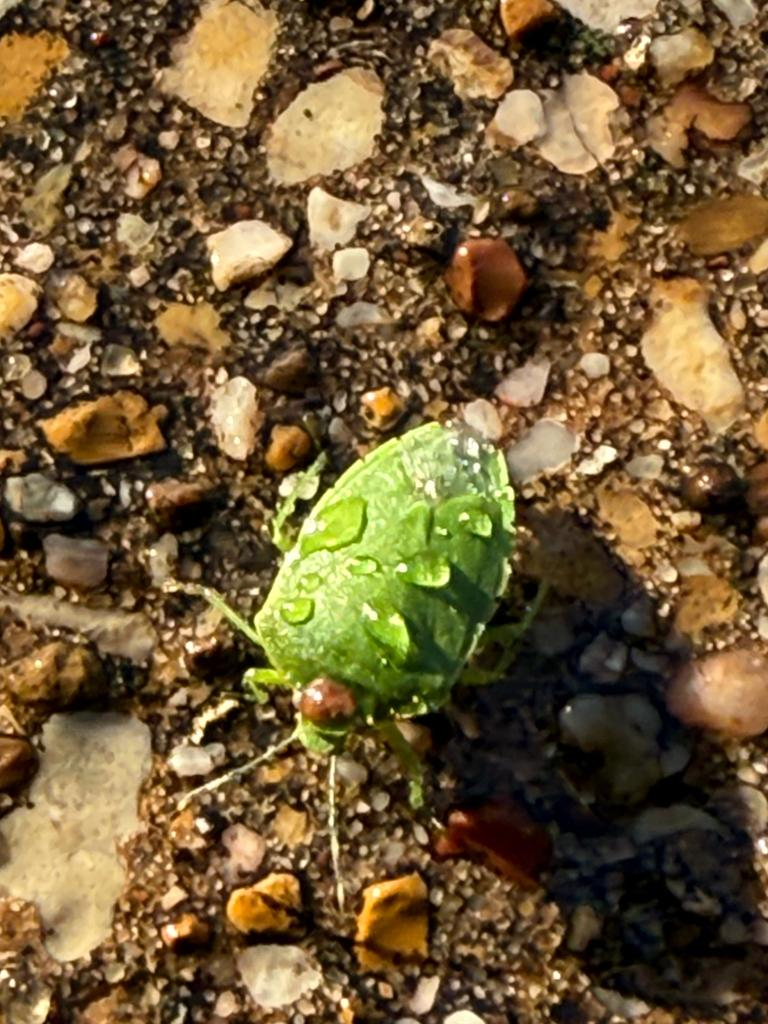stink_bugs: (96, 353, 619, 945)
